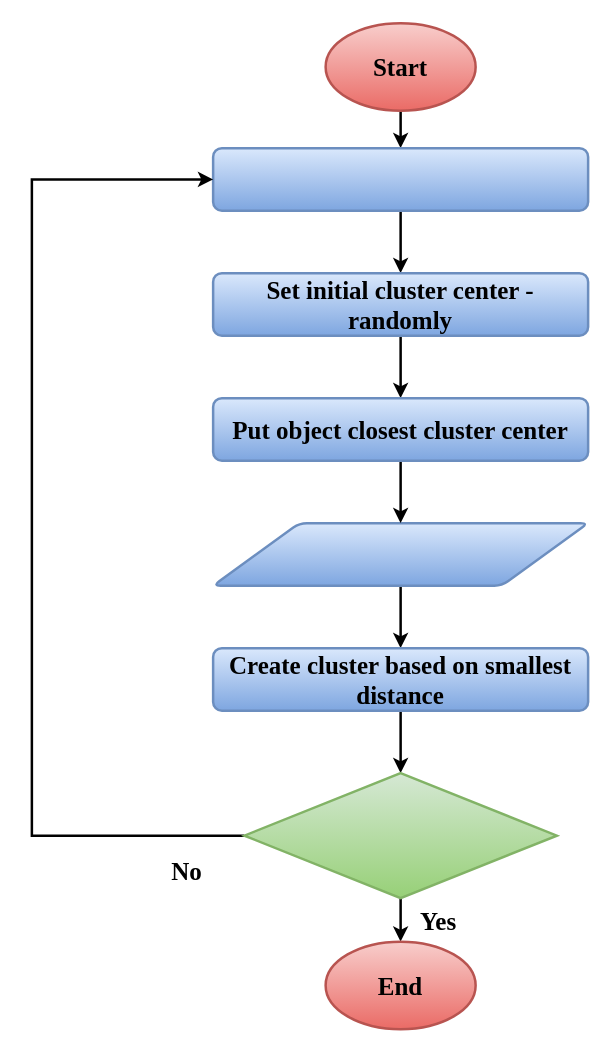
The diagram is 610 pixels wide and 1051 high, and some of its shapes have lost their labels. Each missing label, with the centre of its shape:
Obejcts move to clusters: pixel 400 835
Recalculate the new cluster center: pixel 400 553
Select number of cluster center: pixel 400 178
